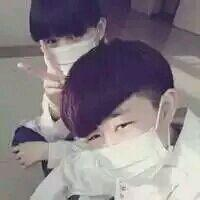yes_mask: (58, 37, 181, 182), (24, 1, 104, 78)
